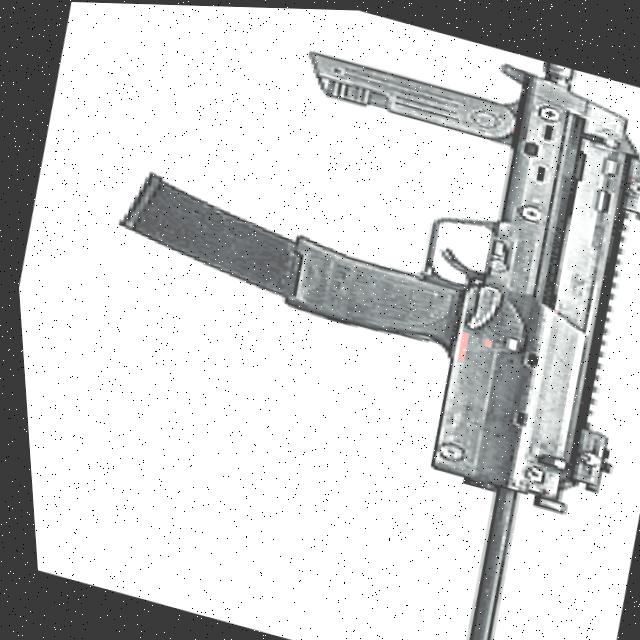firearm: (8, 0, 640, 640)
